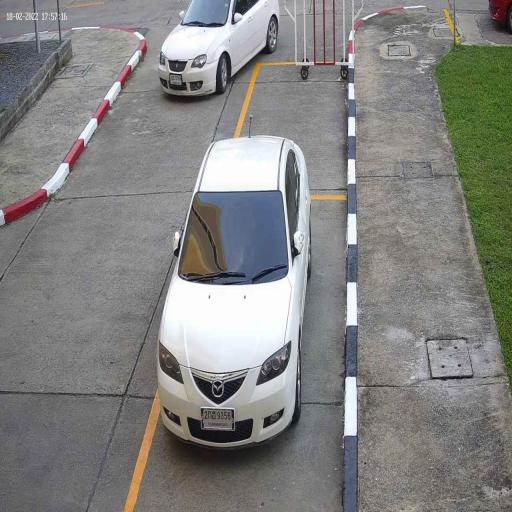car: (157, 133, 313, 449), (158, 0, 279, 97)
